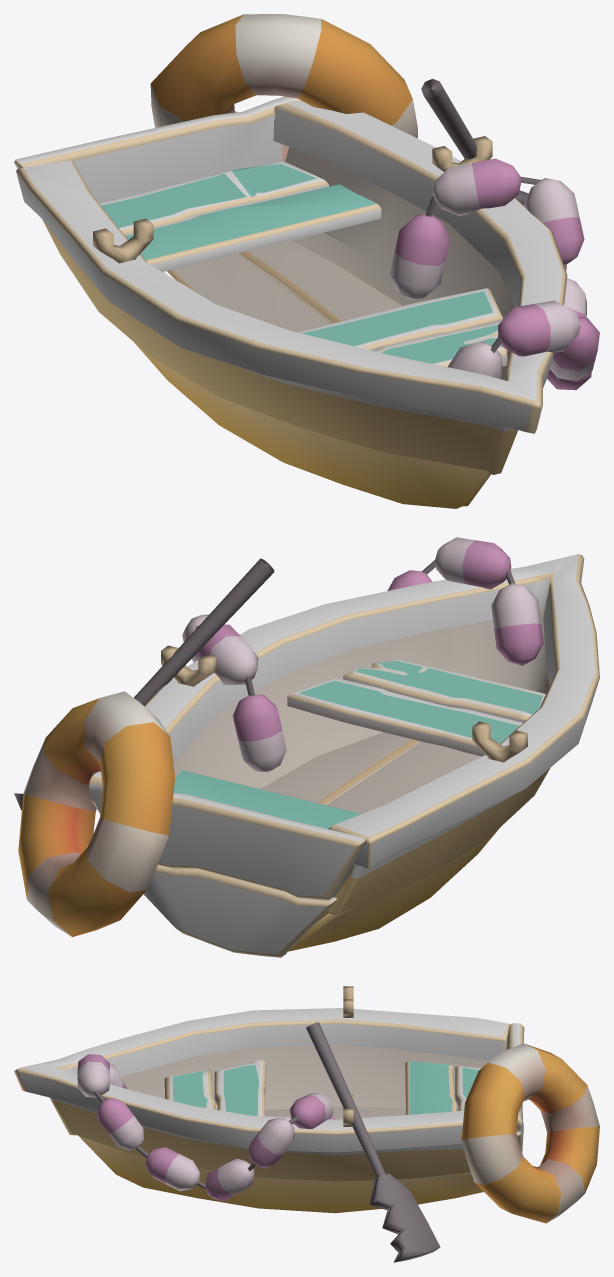
File: RowBoat_10.glb
The picture shows the model from 3 angles, top to bottom: view 1: azimuth 30°, elevation 25°; view 2: azimuth 150°, elevation 25°; view 3: azimuth 270°, elevation 25°; orthographic projection. The views are drawn at different scales.
Parts seen in each view (by area): view 1: RowBoat; view 2: RowBoat; view 3: RowBoat.
Boxes of the visible parts, x1,y1,x2,y2 form: RowBoat: [14, 14, 599, 508]; RowBoat: [14, 537, 599, 957]; RowBoat: [14, 986, 599, 1262].
Size of the model in its own units: 2.04 by 1.21 by 3.04.
